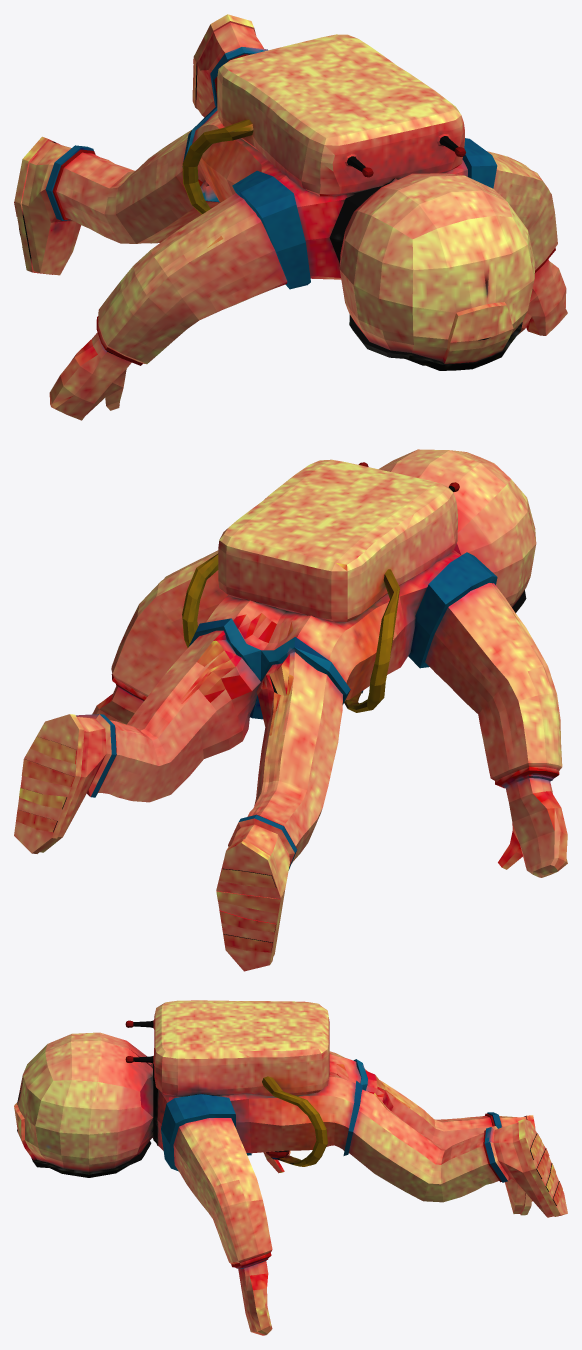
Rendered from astronaut.fbx.
3 views of the same model, one above another, from view 1: azimuth 30°, elevation 25°; view 2: azimuth 150°, elevation 25°; view 3: azimuth 270°, elevation 25° (orthographic). The views are drawn at different scales.
Parts seen in each view (by area): view 1: Cube_Baked; view 2: Cube_Baked; view 3: Cube_Baked.
Part boxes in pixels (left/top/right/bottom): Cube_Baked: left=14, top=14, right=567, bottom=420; Cube_Baked: left=14, top=449, right=567, bottom=971; Cube_Baked: left=14, top=1000, right=567, bottom=1335.
Bounding box in the file's own units: 126 × 75.3 × 162.
